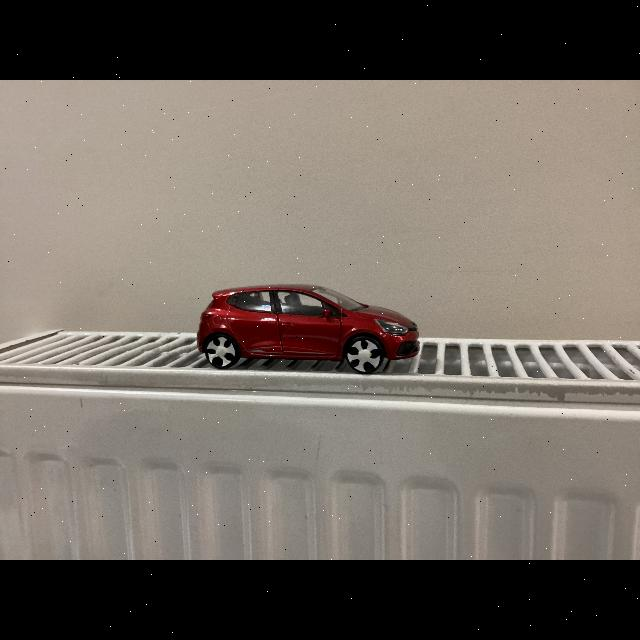Yanlis_Jant: (346, 339, 382, 373), (204, 336, 236, 366)
